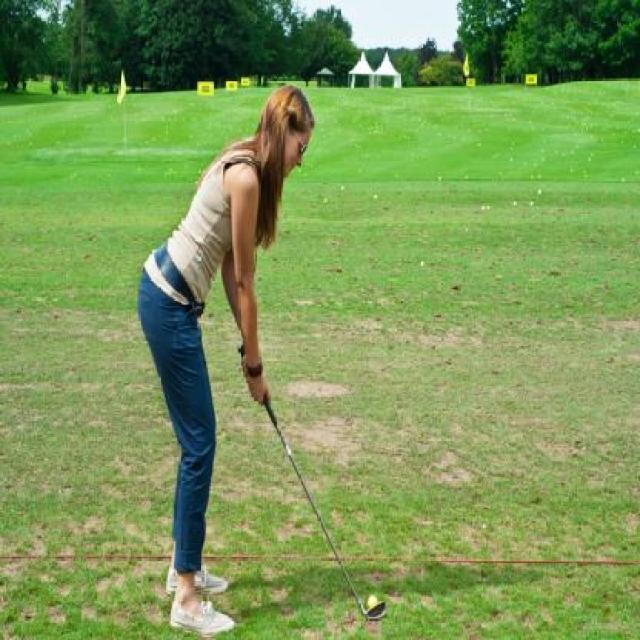club head: (356, 599, 387, 621)
